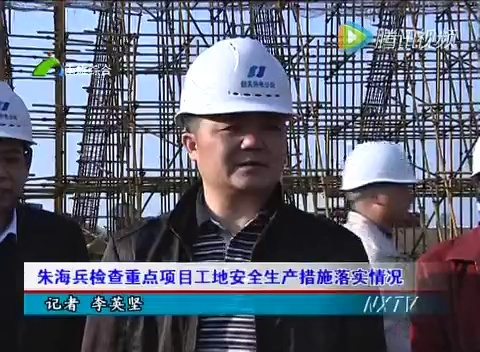white: (174, 35, 297, 197), (338, 140, 418, 226), (1, 80, 35, 216)
